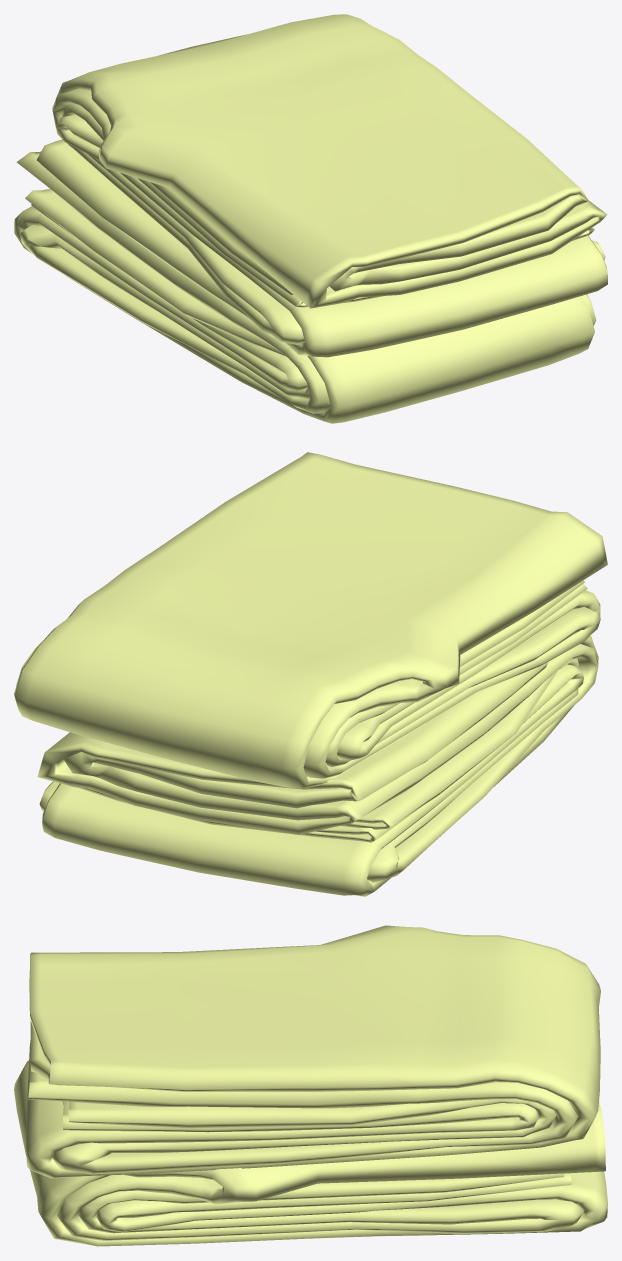
File: Folded_Pant10.fbx
3 views of the same model, one above another, from view 1: azimuth 30°, elevation 25°; view 2: azimuth 150°, elevation 25°; view 3: azimuth 270°, elevation 25° (orthographic). The views are drawn at different scales.
Visible parts, largest first — view 1: Folded_Pant10; view 2: Folded_Pant10; view 3: Folded_Pant10.
Boxes of the visible parts, x1,y1,x2,y2 form: Folded_Pant10: (14,14,607,423); Folded_Pant10: (14,452,607,896); Folded_Pant10: (14,925,607,1246).
Size of the model in its own units: 25.02 by 11.51 by 34.5.
